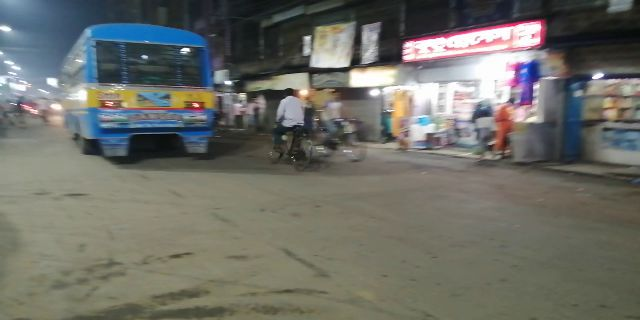Bus: (58, 23, 214, 156)
Cycle: (261, 83, 318, 174), (315, 91, 371, 165)
